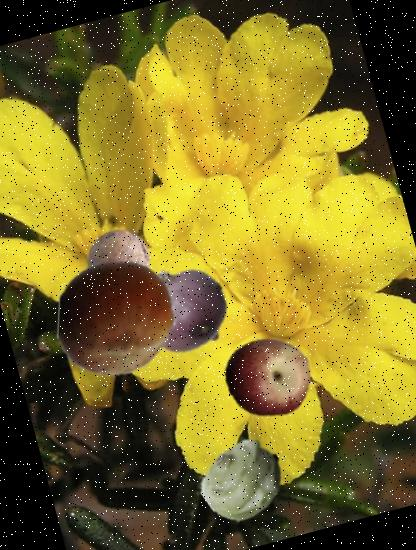Kohlrabi: (192, 430, 295, 532)
Nectarine: (217, 325, 322, 430)
Nut: (44, 245, 190, 390)
Onion: (112, 234, 248, 370)
Walnut: (82, 222, 158, 298)
